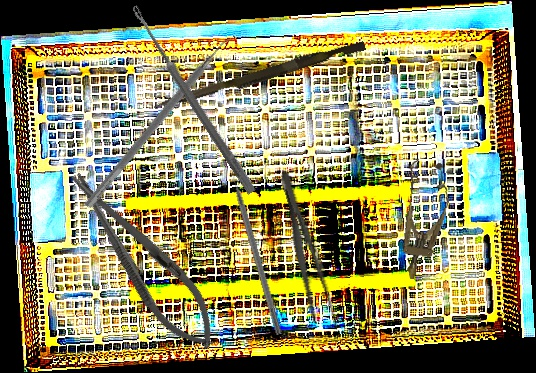Dressing Forceps: (269, 168, 343, 336)
Hook Surgical: (225, 159, 284, 336)
Needle Holder: (55, 157, 232, 363)
Pusher: (153, 35, 366, 118)
Spatula Surgical: (83, 27, 242, 216)
Speculum: (389, 157, 455, 284)
Surgical Spoon: (128, 4, 258, 195)
